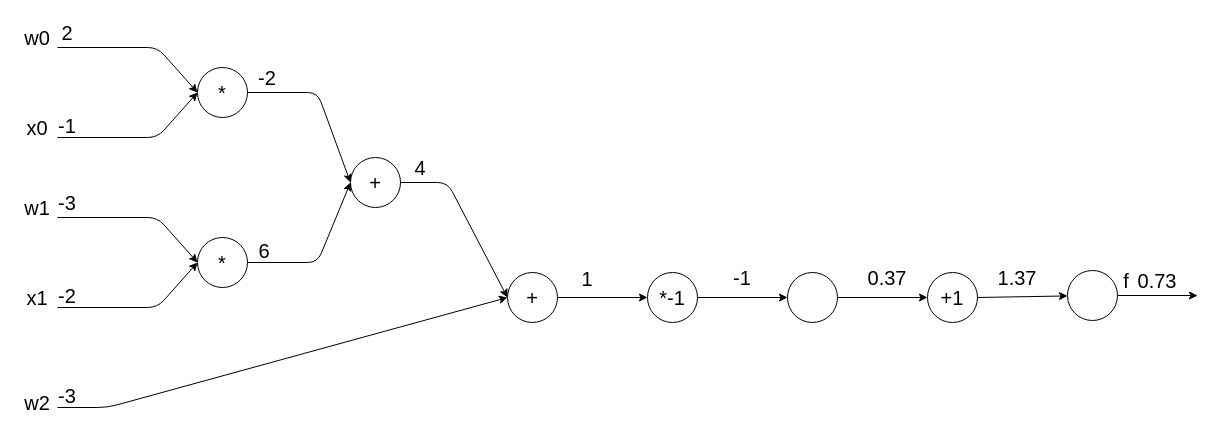
Some shapes in this 1223 by 434 pixel diagram are drawn without their labels. The box of each missing label's shape, as (x1, y1, x2, y2) in pixels:
1/x: (1066, 270, 1118, 320)
exp: (786, 272, 838, 322)
